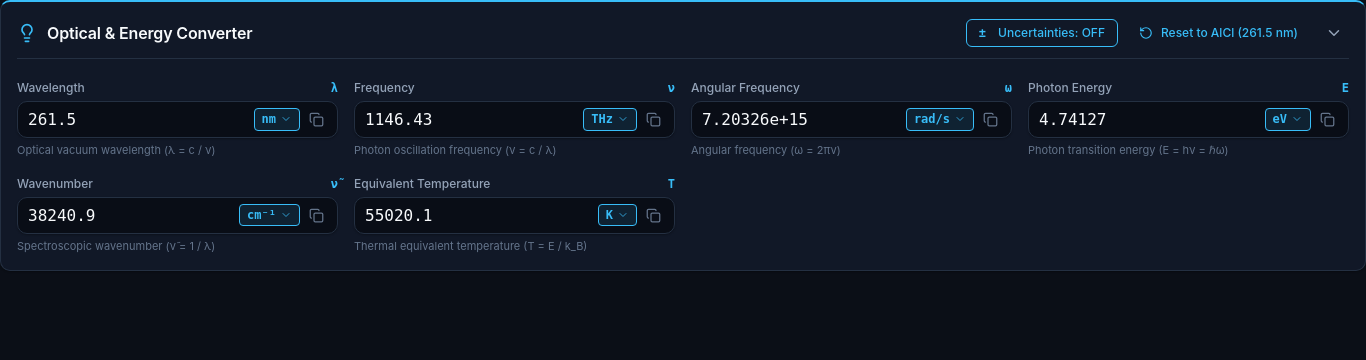
Test: OpticalConverter Uncertainty Propagation Toggle & Conversion › propagates uncertainty entered in wavelength to all other representations in real time
This screenshot has width=1366, height=360.
// Enable uncertainty
Click the button "± Uncertainties: OFF". click: (1042, 33)
box: left=966, top=19, right=1118, bottom=47
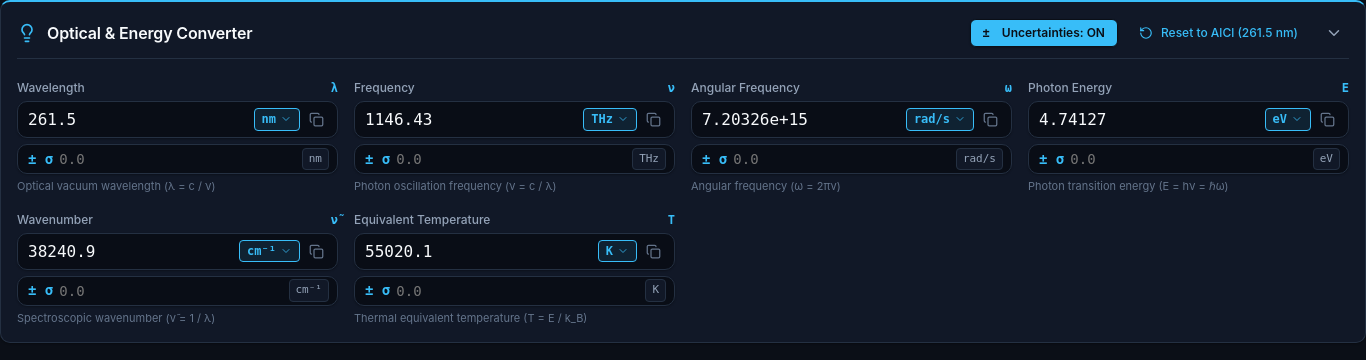
Expected: the field named "Wavelength uncertainty in nm" is empty
// Enter uncertainty 0.005 nm (at 261.5 nm)
Type "0.005" into the field named "Wavelength uncertainty in nm". click: (181, 159)
box: left=59, top=147, right=302, bottom=171
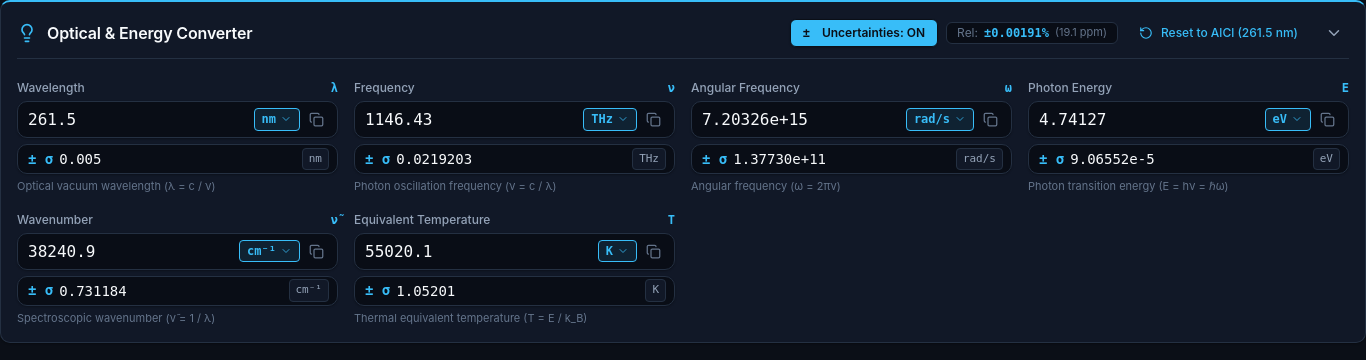
Expected: the text "Rel:" is shown, left=957, top=27, right=978, bottom=39
Expected: the text "(19.1 ppm)" is shown, left=1055, top=28, right=1107, bottom=38
